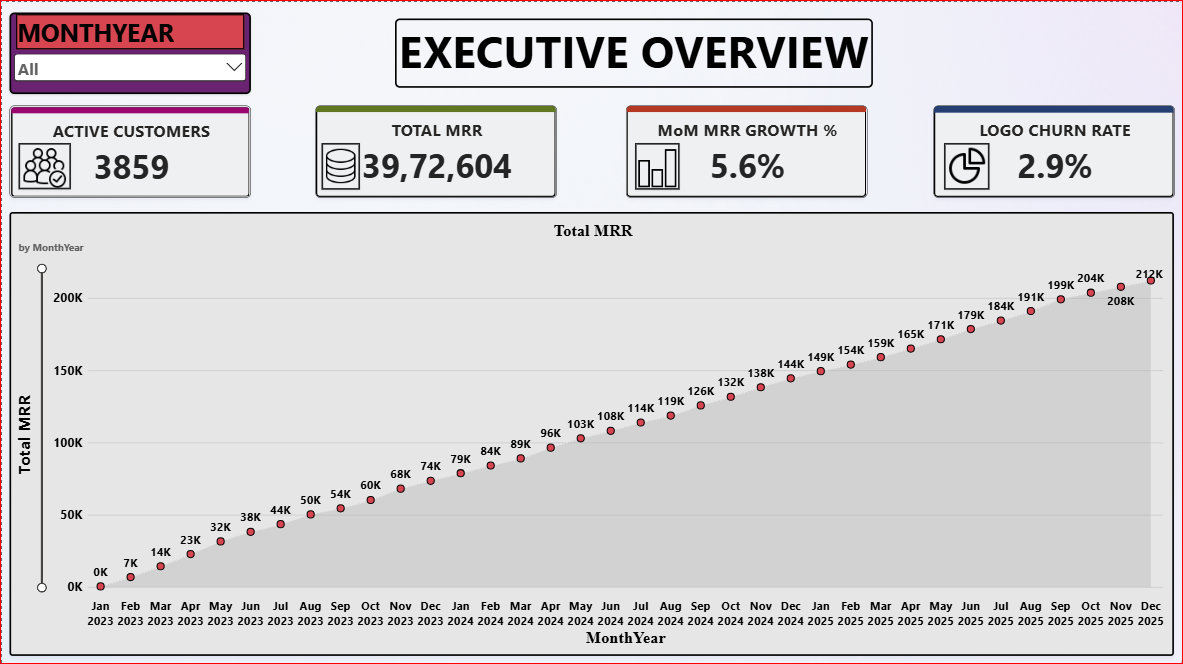

The page's visual inventory and layout, read from the dashboard file:
{"tool":"powerbi","page":{"name":"Executive Overview","canvas":[1920,1080],"ordinal":0},"visuals":[{"type":"cardVisual","fields":{"Data":["fact_monthly_subscription.Total MRR"]},"box":[467.5,167.5,392.5,150],"z":0},{"type":"slicer","fields":{"Values":["DimDate.MonthYear"]},"box":[30,17.5,340,130],"z":1000},{"type":"cardVisual","fields":{"Data":["fact_monthly_subscription.Active Customers"]},"box":[30,167.5,392.5,150],"z":2000},{"type":"cardVisual","fields":{"Data":["fact_monthly_subscription.MoM MRR Growth %"]},"box":[902.5,167.5,392.5,150],"z":3000},{"type":"cardVisual","fields":{"Data":["fact_churn_by_month.Logo Churn Rate"]},"box":[1332.5,167.5,392.5,150],"z":4000},{"type":"lineChart","fields":{"Category":["DimDate.MonthYear"],"Y":["fact_monthly_subscription.Total MRR"]},"box":[30,342.5,1862.5,700],"z":5000}]}

Visuals, with their boxes in screenshot pixels (x1, y1, x2, y2), scaled from the page's 1920x1080 canvas onto the 1183x664 screenshot:
cardVisual - fact_monthly_subscription.Total MRR: l=288, t=103, r=530, b=195
slicer - DimDate.MonthYear: l=18, t=11, r=228, b=91
cardVisual - fact_monthly_subscription.Active Customers: l=18, t=103, r=260, b=195
cardVisual - fact_monthly_subscription.MoM MRR Growth %: l=556, t=103, r=798, b=195
cardVisual - fact_churn_by_month.Logo Churn Rate: l=821, t=103, r=1063, b=195
lineChart - DimDate.MonthYear x fact_monthly_subscription.Total MRR: l=18, t=211, r=1166, b=641
